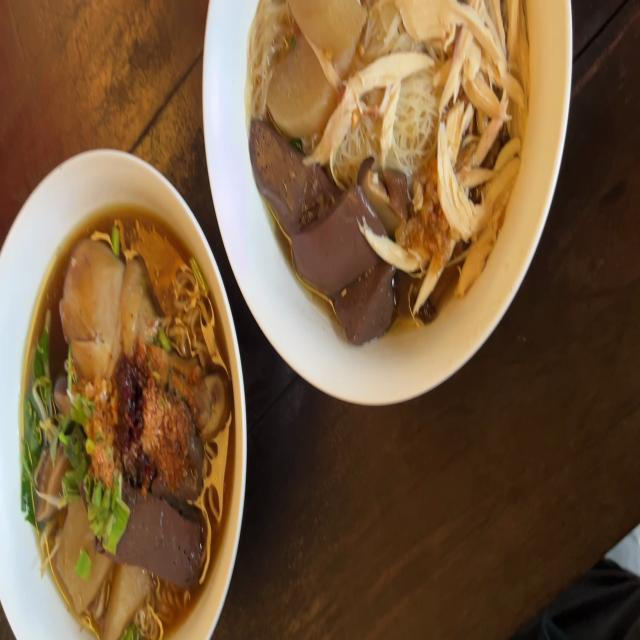boiled_chicken_blood_jelly: (112, 488, 208, 582), (296, 178, 375, 280), (251, 120, 328, 223), (126, 499, 201, 580), (342, 263, 394, 341)
chicken_drumstick: (59, 243, 224, 437)
chicken_shredded: (406, 0, 526, 273), (316, 46, 427, 156)
daikon_radish: (272, 44, 336, 138), (289, 0, 362, 76), (56, 508, 105, 604)
noodle: (234, 0, 538, 351), (11, 192, 245, 640)
